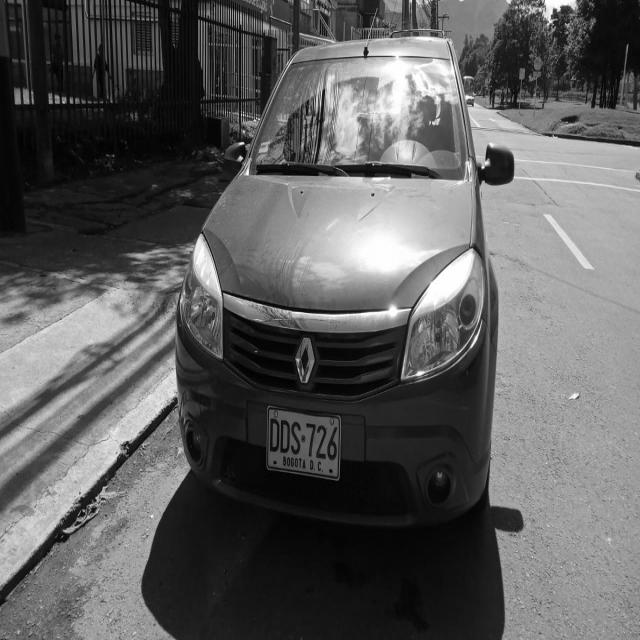plate: (266, 401, 344, 485)
